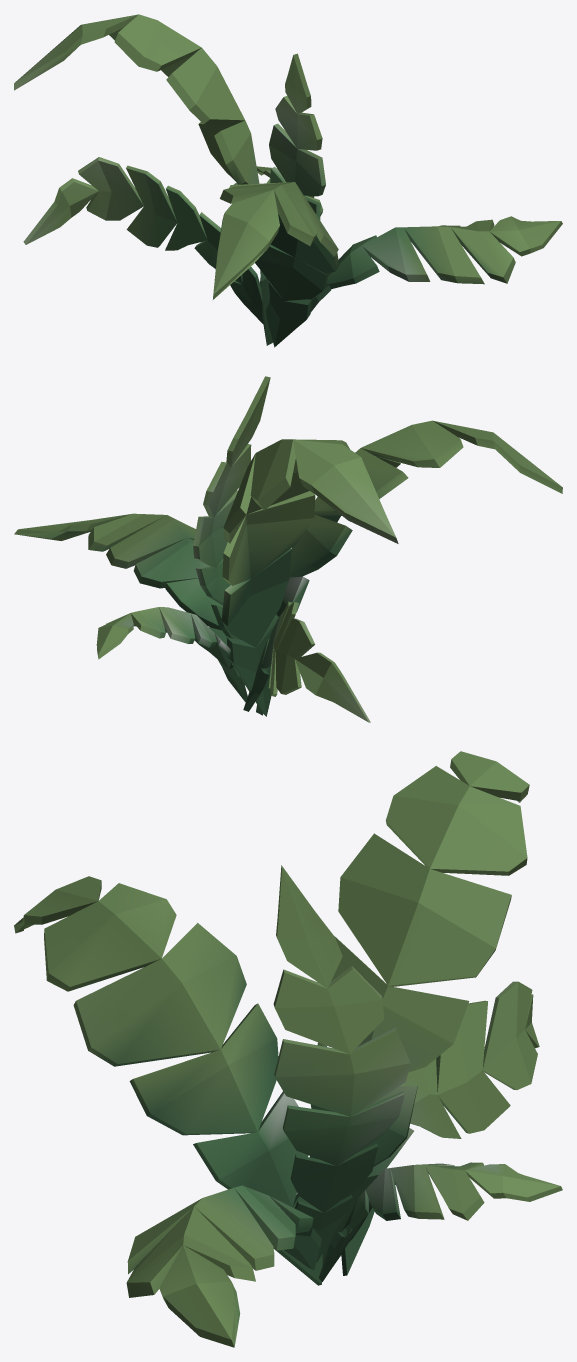
File: paprotka.fbx
3 views of the same model, one above another, from view 1: azimuth 30°, elevation 25°; view 2: azimuth 150°, elevation 25°; view 3: azimuth 270°, elevation 25° (orthographic). The views are drawn at different scales.
Visible parts, largest first — view 1: Cube; view 2: Cube; view 3: Cube.
Boxes of the visible parts, x1,y1,x2,y2 form: Cube: (14,14,562,347); Cube: (14,376,562,722); Cube: (14,751,562,1347).
Bounding box in the file's own units: 231 × 153 × 172.
